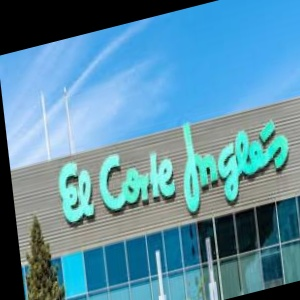corte_ingles: (266, 38, 300, 164)
